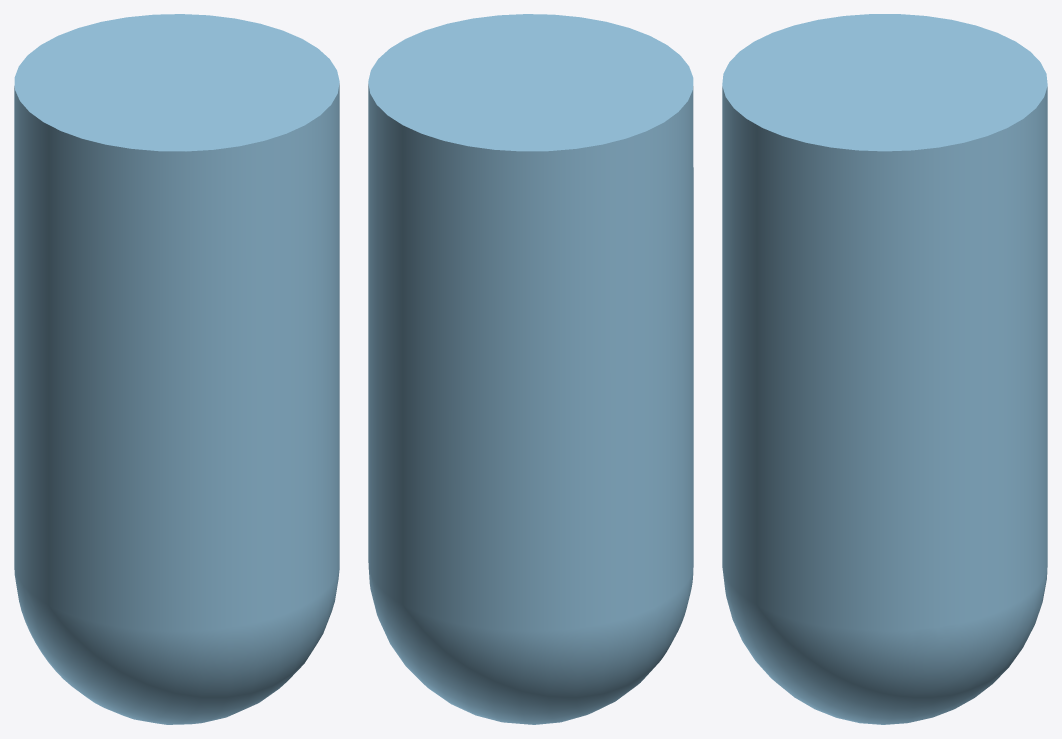
Rendered from caster_link.dae.
3 views of the same model, side by side, from view 1: azimuth 30°, elevation 25°; view 2: azimuth 150°, elevation 25°; view 3: azimuth 270°, elevation 25° (orthographic).
Visible parts, largest first — view 1: ID2; view 2: ID2; view 3: ID2.
Boxes of the visible parts, left/top/right/bottom form: ID2: left=14, top=14, right=339, bottom=724; ID2: left=368, top=14, right=693, bottom=724; ID2: left=722, top=14, right=1047, bottom=724.
Size of the model in its own units: 0.02 by 0.02 by 0.0425.
